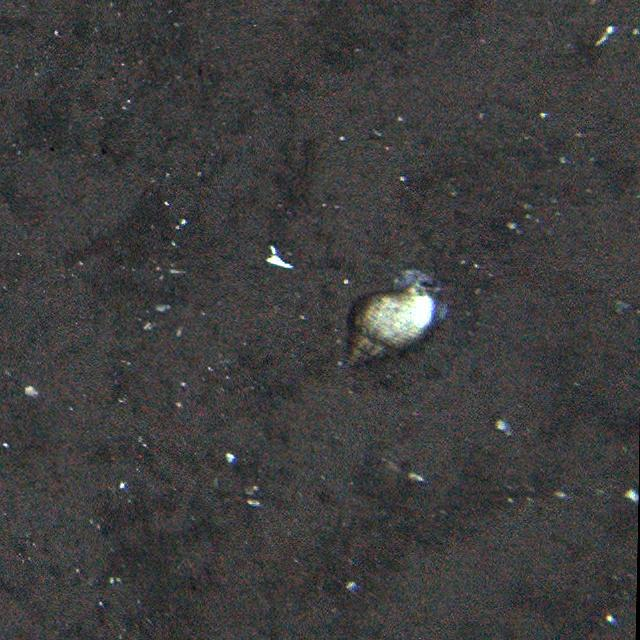whelk: (336, 282, 438, 366)
